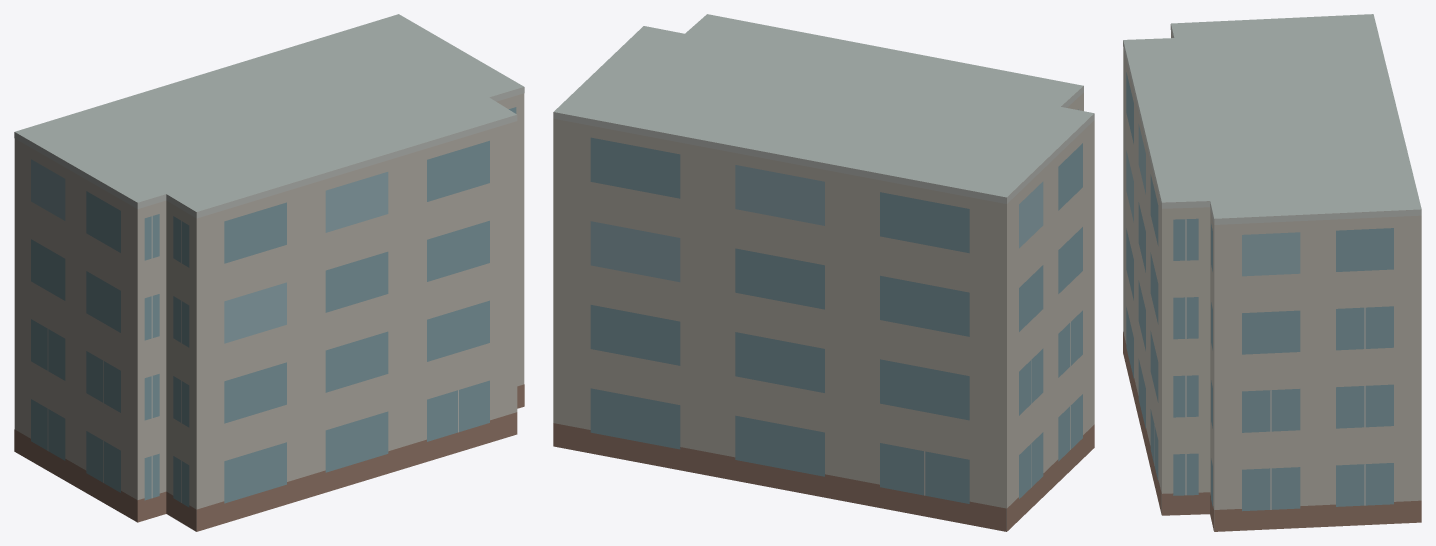
The model's file is survey-upis-32664162.glb.
3 renders of one model, left to right at view 1: azimuth 30°, elevation 25°; view 2: azimuth 150°, elevation 25°; view 3: azimuth 270°, elevation 25°, orthographic. The views are drawn at different scales.
Parts seen in each view (by area): view 1: survey-upis-32664162.tmp; view 2: survey-upis-32664162.tmp; view 3: survey-upis-32664162.tmp.
Part boxes in pixels (x1,y1,x2,y2): survey-upis-32664162.tmp: (14,14,524,531); survey-upis-32664162.tmp: (553,14,1094,531); survey-upis-32664162.tmp: (1123,14,1421,531).
Bounding box in the file's own units: 17.13 × 12.2 × 10.56.
